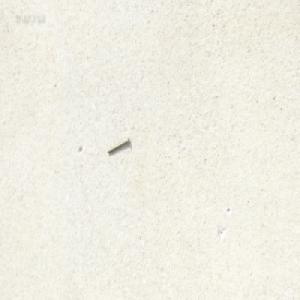Bolt: (107, 135, 129, 154)
